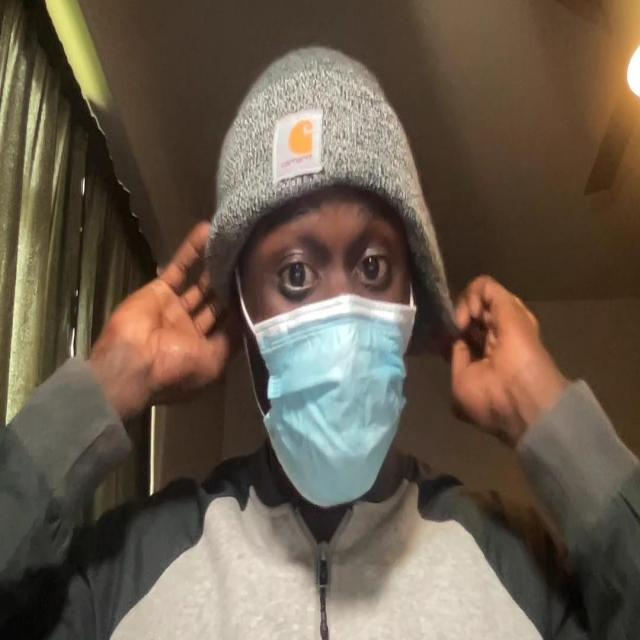face: (236, 132, 419, 508)
